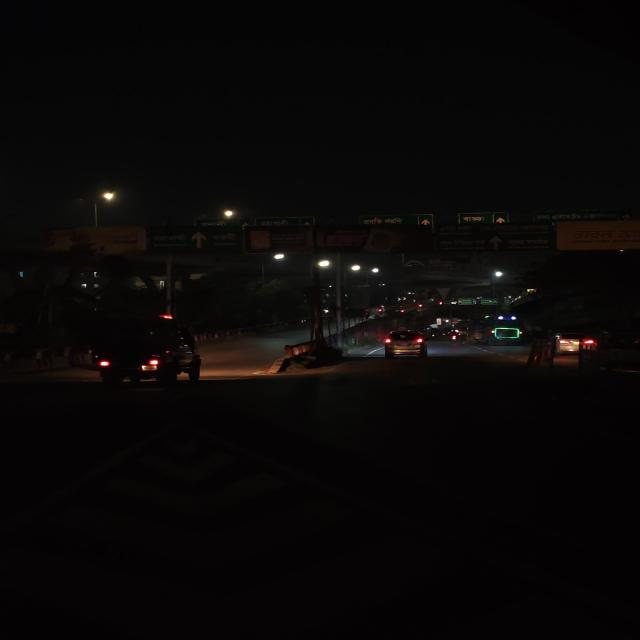bus: (481, 313, 526, 348)
car: (89, 317, 200, 383), (374, 326, 428, 361), (553, 329, 599, 358)
